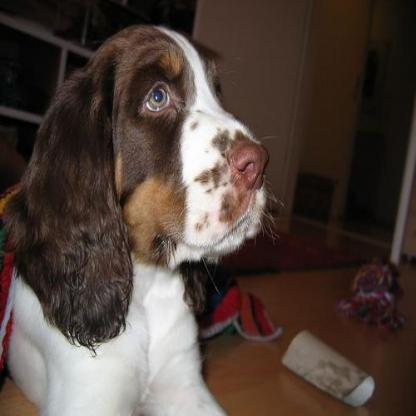English_springer: (0, 22, 270, 414)
